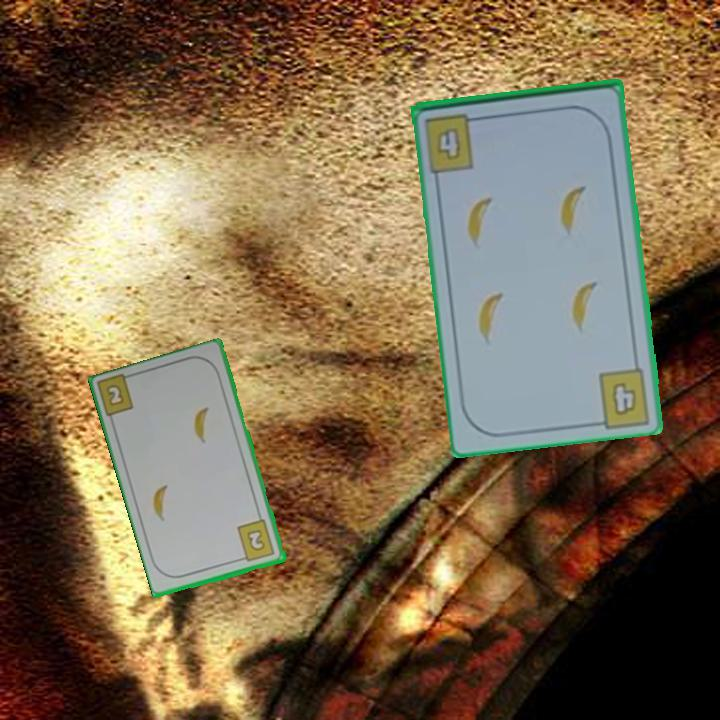2b: (234, 516, 278, 565), (102, 381, 127, 409)
4b: (421, 109, 486, 174), (608, 379, 640, 419)
